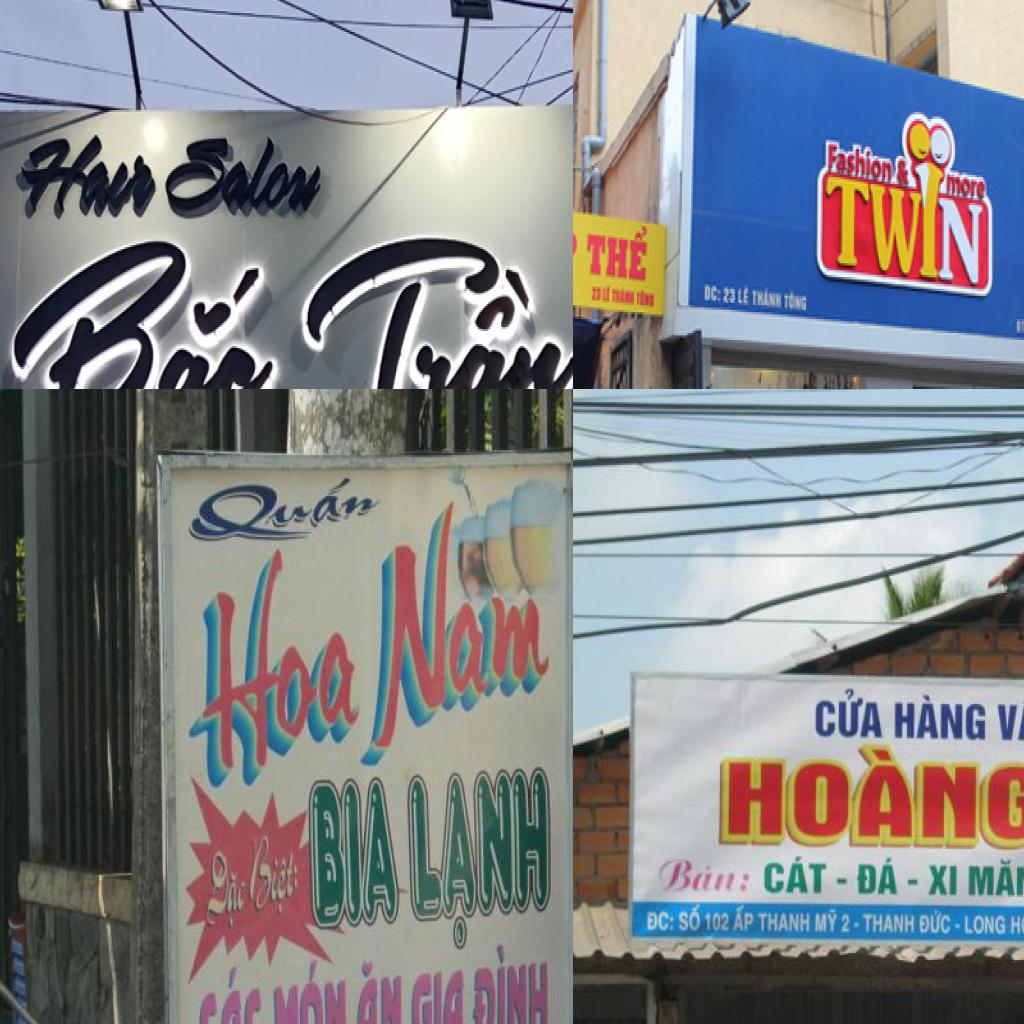text: (360, 503, 564, 771), (299, 207, 573, 389), (171, 547, 365, 798), (4, 229, 294, 389), (716, 733, 1024, 856), (402, 760, 555, 958), (181, 470, 385, 548), (164, 133, 332, 222), (308, 778, 404, 931), (17, 131, 159, 222), (826, 175, 926, 279), (469, 939, 555, 1024), (269, 956, 349, 1024), (654, 849, 758, 900), (893, 690, 986, 744), (249, 831, 304, 919), (938, 196, 987, 291), (191, 962, 266, 1024), (582, 224, 656, 286), (814, 685, 885, 742), (915, 159, 947, 284), (349, 955, 406, 1024), (206, 846, 248, 935), (411, 962, 466, 1024), (826, 138, 896, 186), (762, 854, 829, 897), (967, 859, 1024, 900), (588, 282, 658, 312), (993, 695, 1024, 755), (854, 856, 898, 897), (861, 909, 918, 939), (962, 910, 1008, 946), (757, 907, 814, 936), (925, 859, 959, 899), (947, 172, 989, 203), (917, 911, 956, 936), (752, 286, 784, 314), (676, 904, 704, 936), (704, 907, 732, 938), (732, 905, 757, 938), (814, 907, 842, 936), (784, 286, 809, 317), (645, 908, 675, 932), (896, 154, 911, 189), (1008, 908, 1024, 939), (736, 282, 752, 310), (705, 282, 724, 305), (724, 284, 738, 308), (839, 912, 853, 934), (1014, 314, 1024, 337)
